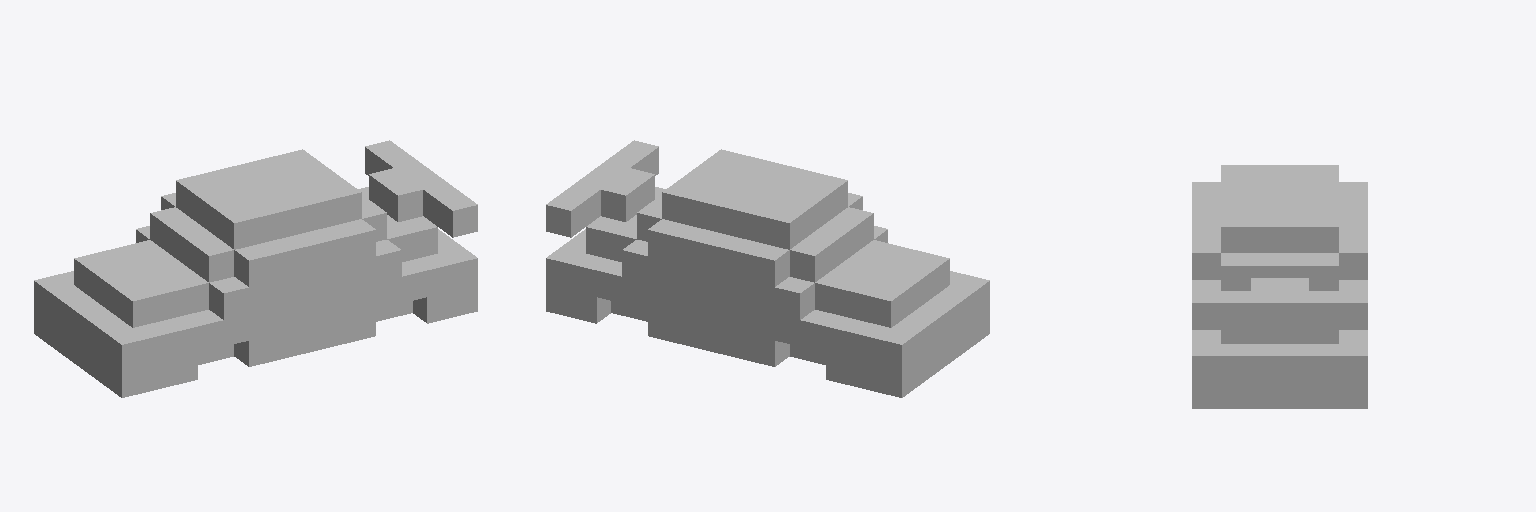
File: racer-v1-blue.obj
The picture shows the model from 3 angles: view 1: azimuth 30°, elevation 25°; view 2: azimuth 150°, elevation 25°; view 3: azimuth 270°, elevation 25°; orthographic projection.
Parts seen in each view (by area): view 1: object 1; view 2: object 1; view 3: object 1.
Part boxes in pixels (left/top/right/bottom): object 1: left=34, top=140, right=477, bottom=397; object 1: left=546, top=140, right=989, bottom=397; object 1: left=1192, top=165, right=1367, bottom=408.
Bounding box in the file's own units: 1.4 × 0.5 × 0.6.